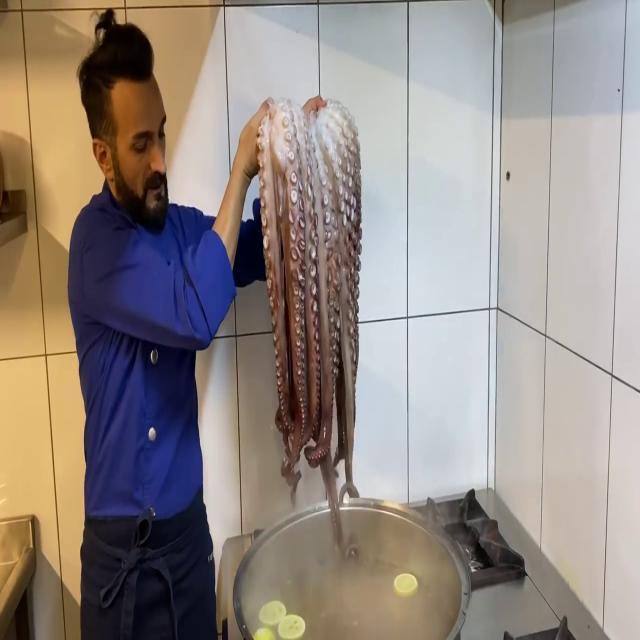octopus: (256, 100, 380, 560)
